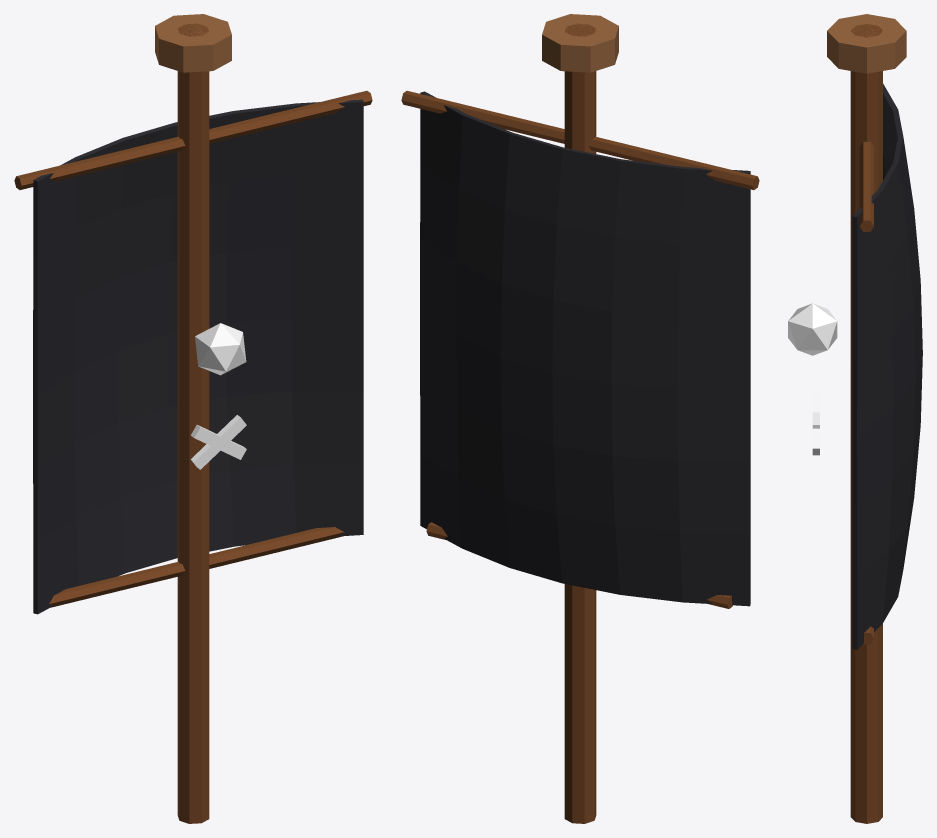
The model's file is JollySail.fbx.
3 renders of one model, left to right at view 1: azimuth 30°, elevation 25°; view 2: azimuth 150°, elevation 25°; view 3: azimuth 270°, elevation 25°, orthographic.
Visible parts, largest first — view 1: JollySail; view 2: JollySail; view 3: JollySail.
Part boxes in pixels (left/top/right/bottom): JollySail: left=14, top=14, right=372, bottom=823; JollySail: left=401, top=14, right=759, bottom=823; JollySail: left=788, top=14, right=922, bottom=823.
Bounding box in the file's own units: 11.2 × 24 × 3.73.
1 material, 1 textured.
